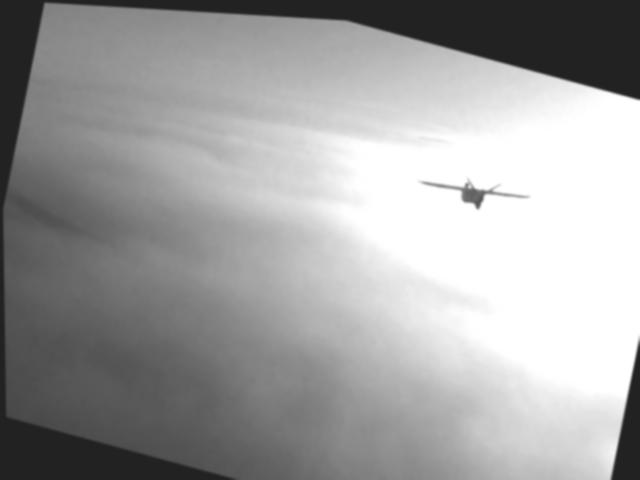hedef: (404, 144, 545, 235)
